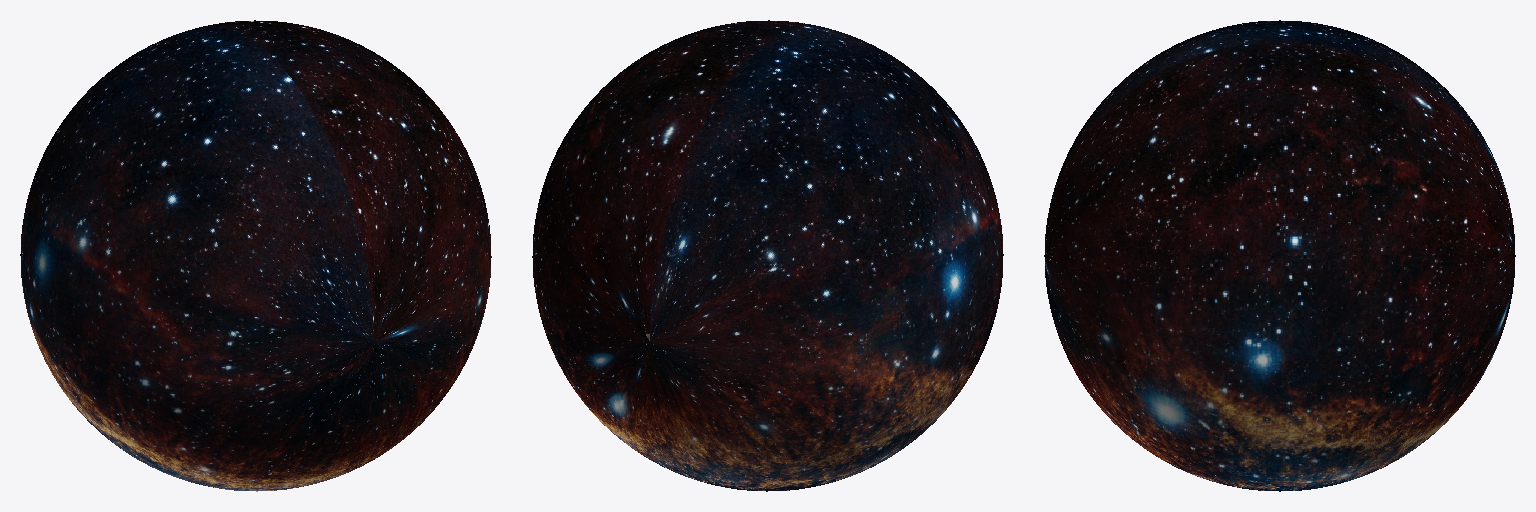
The picture shows the model from 3 angles: view 1: azimuth 30°, elevation 25°; view 2: azimuth 150°, elevation 25°; view 3: azimuth 270°, elevation 25°; orthographic projection.
Visible parts, largest first — view 1: Sphere001; view 2: Sphere001; view 3: Sphere001.
Boxes of the visible parts, box(x1,y1,x2,y2) form: Sphere001: box(20, 20, 491, 491); Sphere001: box(532, 20, 1003, 491); Sphere001: box(1044, 20, 1515, 491).
Bounding box in the file's own units: 10000 × 10000 × 10000.
1 materials, 1 textured.